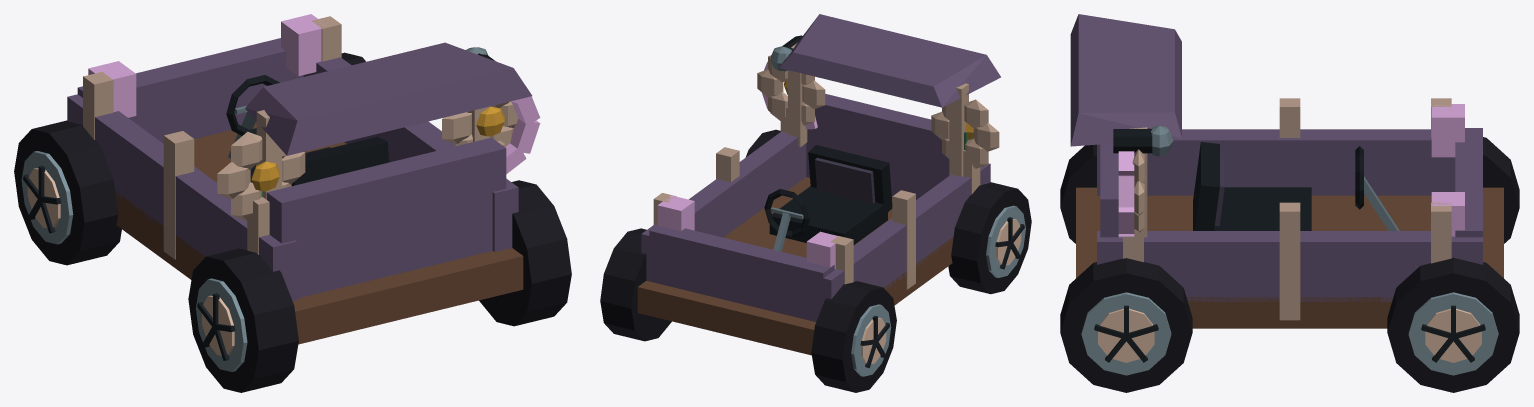
File: kart.glb
3 views of the same model, side by side, from view 1: azimuth 30°, elevation 25°; view 2: azimuth 150°, elevation 25°; view 3: azimuth 270°, elevation 25° (orthographic). The views are drawn at different scales.
Parts seen in each view (by area): view 1: identity-carriage-carriage-timber-coach, wheel-rear-left, wheel-front-left, wheel-rear-right, identity-carriage-motif-flowers, identity-carriage-driver-cockpit, identity-carriage-motif-moon; view 2: identity-carriage-carriage-timber-coach, identity-carriage-driver-cockpit, wheel-front-left, wheel-rear-left, identity-carriage-motif-flowers, wheel-front-right, identity-carriage-motif-microphone; view 3: identity-carriage-carriage-timber-coach, wheel-rear-right, wheel-front-right, identity-carriage-driver-cockpit, wheel-front-left, wheel-rear-left, identity-carriage-motif-microphone, identity-carriage-motif-moon, identity-carriage-motif-flowers.
Part boxes in pixels (<box>): identity-carriage-carriage-timber-coach: <box>67,14,532,344</box>; wheel-rear-left: <box>188,248,298,392</box>; wheel-front-left: <box>14,120,121,265</box>; wheel-rear-right: <box>479,180,571,326</box>; identity-carriage-motif-flowers: <box>217,101,518,221</box>; identity-carriage-driver-cockpit: <box>226,75,388,185</box>; identity-carriage-motif-moon: <box>505,96,540,173</box>; identity-carriage-carriage-timber-coach: <box>637,14,1000,355</box>; identity-carriage-driver-cockpit: <box>764,145,892,251</box>; wheel-front-left: <box>811,281,896,392</box>; wheel-rear-left: <box>948,182,1031,294</box>; identity-carriage-motif-flowers: <box>757,55,999,168</box>; wheel-front-right: <box>600,228,671,341</box>; identity-carriage-motif-microphone: <box>770,35,802,71</box>; identity-carriage-carriage-timber-coach: <box>1070,14,1503,328</box>; wheel-rear-right: <box>1060,258,1192,392</box>; wheel-front-right: <box>1387,257,1519,392</box>; identity-carriage-driver-cockpit: <box>1193,142,1399,230</box>; wheel-front-left: <box>1483,137,1519,243</box>; wheel-rear-left: <box>1060,144,1096,243</box>; identity-carriage-motif-microphone: <box>1113,125,1173,156</box>; identity-carriage-motif-moon: <box>1118,151,1134,237</box>; identity-carriage-motif-flowers: <box>1132,149,1144,233</box>.
Size of the model in its own units: 2.07 by 1.63 by 2.64.
